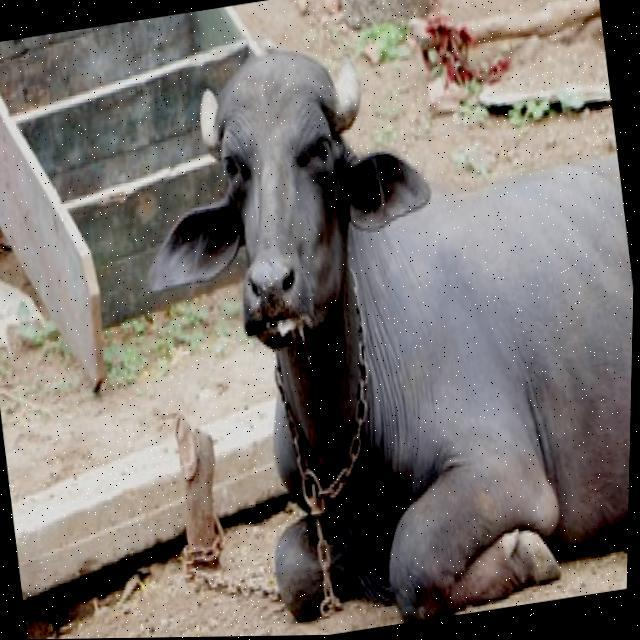Buffalo: (107, 0, 640, 638)
